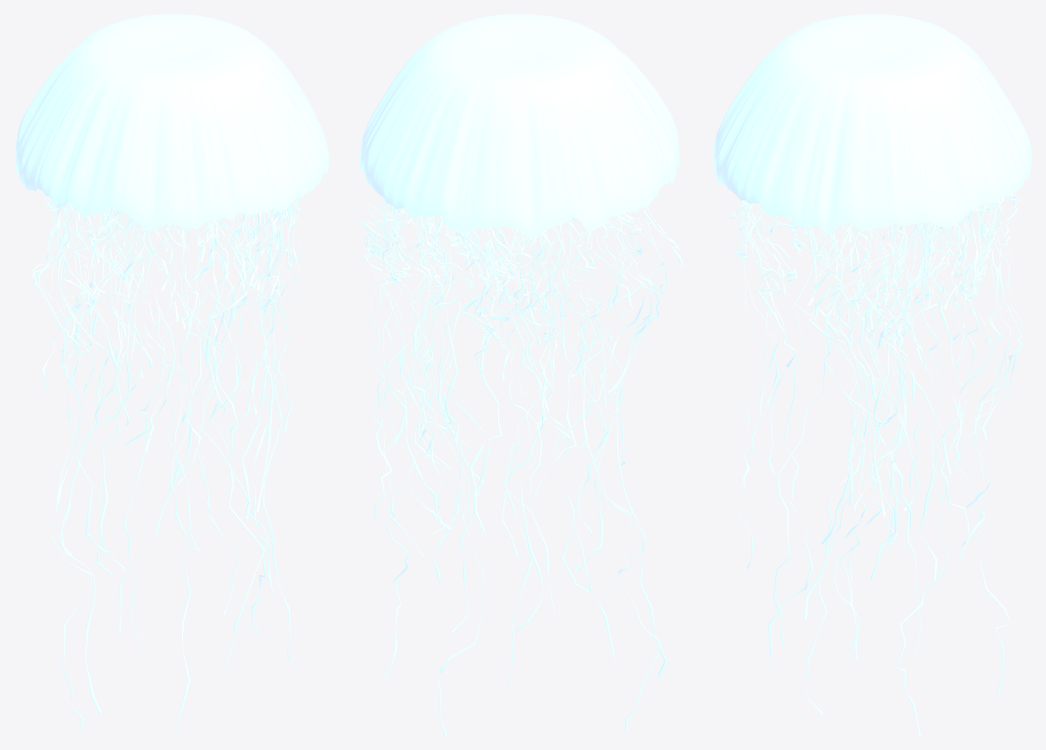
Rendered from jellyfish.glb.
3 views of the same model, side by side, from view 1: azimuth 30°, elevation 25°; view 2: azimuth 150°, elevation 25°; view 3: azimuth 270°, elevation 25° (orthographic).
Visible parts, largest first — view 1: Jellyfish_baked; view 2: Jellyfish_baked; view 3: Jellyfish_baked.
Part boxes in pixels (x1,y1,x2,y2): Jellyfish_baked: [14, 14, 329, 734]; Jellyfish_baked: [358, 14, 684, 735]; Jellyfish_baked: [713, 14, 1031, 735].
Size of the model in its own units: 2 by 4.59 by 2.
